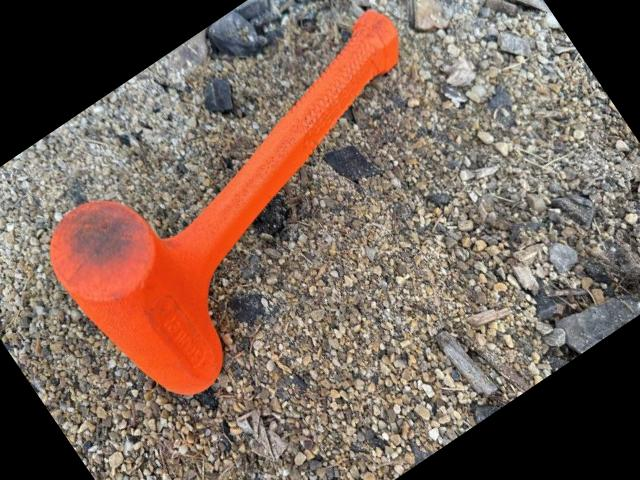hammer: (28, 0, 506, 423)
